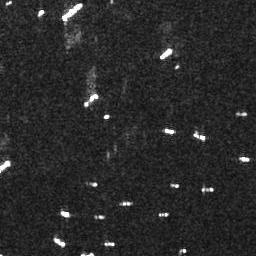ship: (62, 1, 83, 22), (83, 92, 98, 108), (159, 48, 173, 60), (1, 159, 11, 175), (52, 236, 65, 248), (193, 131, 206, 141), (239, 154, 251, 164), (60, 208, 71, 218), (201, 186, 214, 194), (164, 128, 176, 136), (37, 7, 45, 18), (120, 200, 132, 207), (104, 240, 116, 247), (158, 211, 170, 218), (88, 180, 99, 187), (170, 182, 181, 189), (94, 214, 105, 220), (235, 111, 248, 116), (103, 113, 110, 120), (5, 1, 14, 6)
